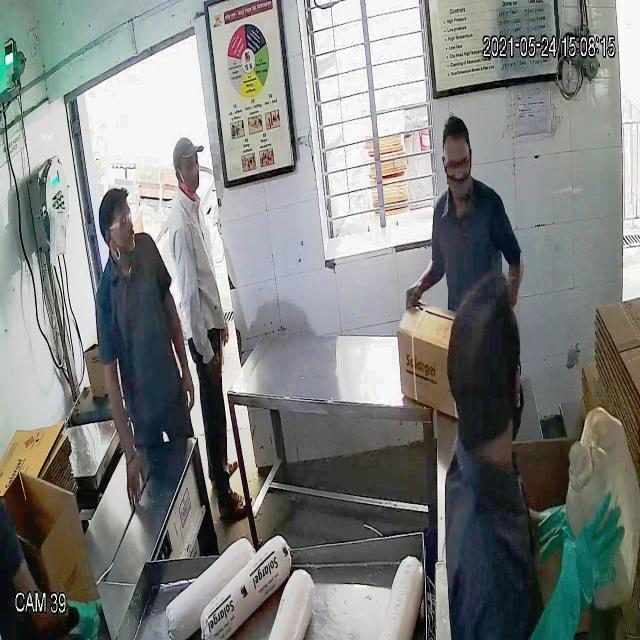glasses: (442, 148, 474, 182), (99, 209, 133, 236)
no-glass: (174, 154, 201, 180)
